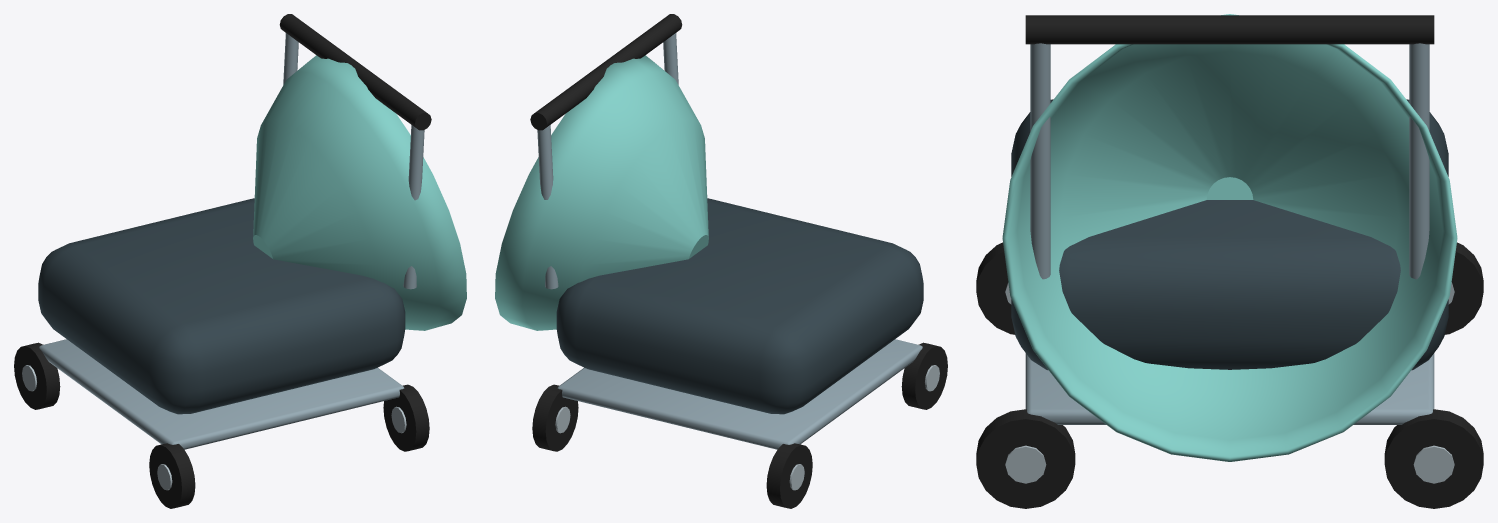
The model's file is stroller.fbx.
3 views of the same model, side by side, from view 1: azimuth 30°, elevation 25°; view 2: azimuth 150°, elevation 25°; view 3: azimuth 270°, elevation 25° (orthographic). The views are drawn at different scales.
Visible parts, largest first — view 1: Stroller; view 2: Stroller; view 3: Stroller.
Part boxes in pixels (x1,y1,x2,y2): Stroller: (14,14,466,508); Stroller: (495,14,947,508); Stroller: (976,14,1483,508).
Bounding box in the file's own units: 1.93 × 1.89 × 1.74.
